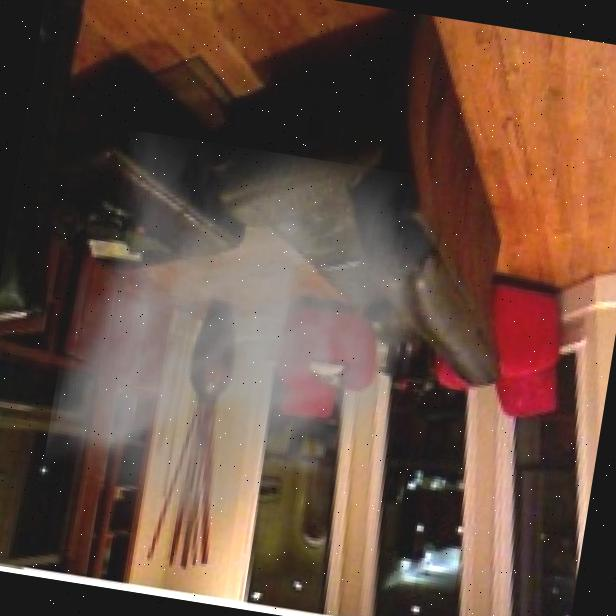smoke: (34, 125, 444, 578)
